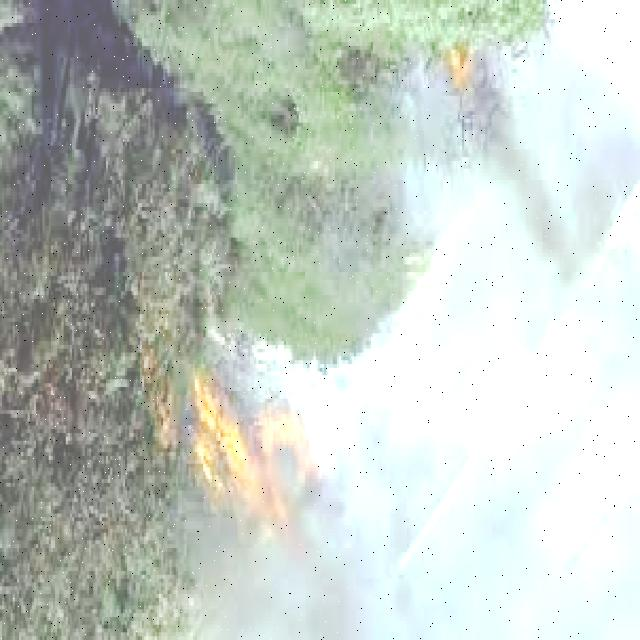api: (129, 354, 328, 546)
